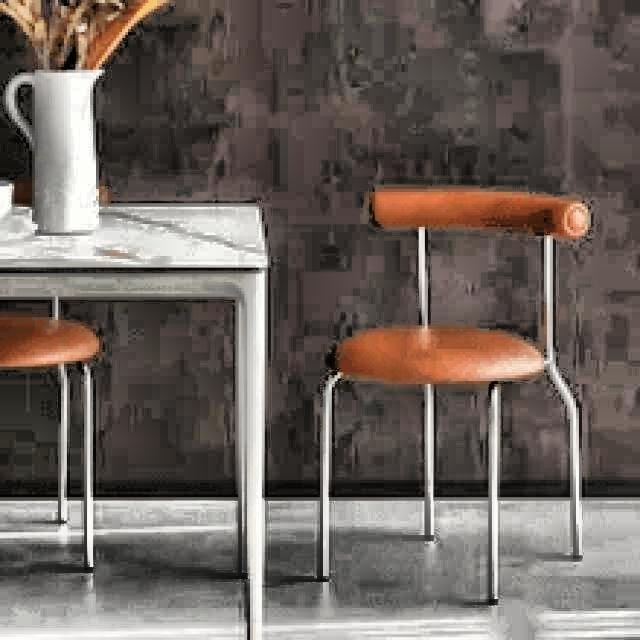cadeira: (310, 184, 592, 607), (332, 188, 592, 386)
